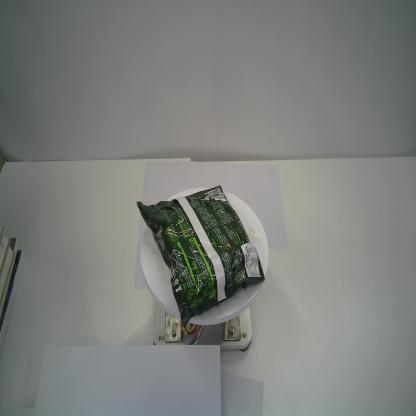Instant Noodles: (136, 185, 266, 329)
